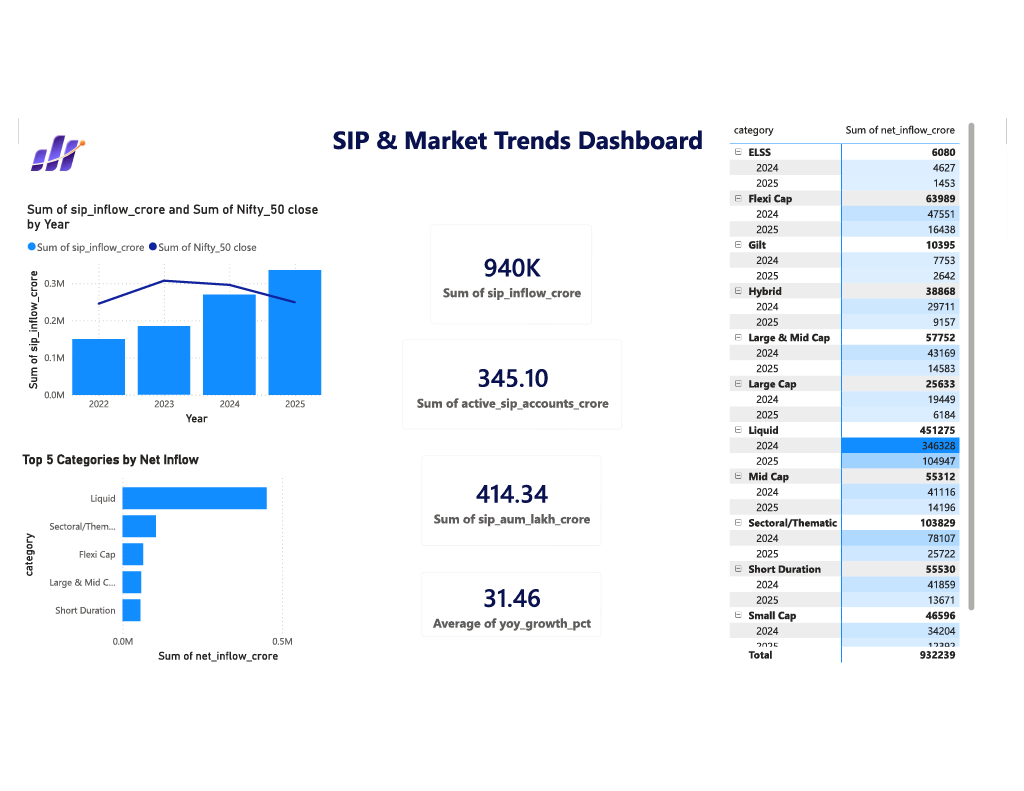

The page's visual inventory and layout, read from the dashboard file:
{"tool":"powerbi","page":{"name":" SIP & Market Trends","canvas":[1280,720],"ordinal":3},"visuals":[{"type":"textbox","box":[401.8,0,515,59.7],"z":0},{"type":"pivotTable","fields":{"Rows":["05_category_inflows_clean.category","05_category_inflows_clean.month.Variation.Date Hierarchy.Year","05_category_inflows_clean.month.Variation.Date Hierarchy.Year"],"Values":["Sum(05_category_inflows_clean.net_inflow_crore)"]},"box":[916.8,0,327.2,710.3],"z":1000},{"type":"clusteredBarChart","title":"Top 5 Categories by Net Inflow","fields":{"Category":["05_category_inflows_clean.category"],"Y":["Sum(05_category_inflows_clean.net_inflow_crore)"]},"box":[0,431.7,401.8,278.6],"z":2000},{"type":"cardVisual","fields":{"Data":["Sum(04_monthly_sip_inflows_clean.sip_inflow_crore)"]},"box":[517.5,120.7,242.6,163],"z":3000},{"type":"cardVisual","fields":{"Data":["Sum(04_monthly_sip_inflows_clean.active_sip_accounts_crore)"]},"box":[480.2,269.9,318.5,150.5],"z":4000},{"type":"cardVisual","fields":{"Data":["Sum(04_monthly_sip_inflows_clean.sip_aum_lakh_crore)"]},"box":[505,420.5,267.5,150.5],"z":5000},{"type":"cardVisual","fields":{"Data":["Avg(04_monthly_sip_inflows_clean.yoy_growth_pct)"]},"box":[505,571,267.5,118.2],"z":6000},{"type":"lineClusteredColumnComboChart","fields":{"Category":["04_monthly_sip_inflows_clean.month.Variation.Date Hierarchy.Year","04_monthly_sip_inflows_clean.month.Variation.Date Hierarchy.Quarter","04_monthly_sip_inflows_clean.month.Variation.Date Hierarchy.Month","04_monthly_sip_inflows_clean.month.Variation.Date Hierarchy.Day"],"Y":["Sum(04_monthly_sip_inflows_clean.sip_inflow_crore)"],"Y2":["Sum(benchmark_monthly.Nifty_50 close)"]},"box":[6.2,108.2,390.6,293.6],"z":7000},{"type":"image","box":[0,0,100.8,93.3],"z":7001}]}

Visuals, with their boxes on the page's 1280x720 design canvas (x1, y1, x2, y2). These are canvas units, not pixel positions in the 1024x791 screenshot, which may show the page scaled, cropped or inside an application window:
textbox: <box>402,0,917,60</box>
pivotTable - 05_category_inflows_clean.category x 05_category_inflows_clean.month.Variation.Date Hierarchy.Year: <box>917,0,1244,710</box>
"Top 5 Categories by Net Inflow" clusteredBarChart: <box>0,432,402,710</box>
cardVisual - Sum(04_monthly_sip_inflows_clean.sip_inflow_crore): <box>518,121,760,284</box>
cardVisual - Sum(04_monthly_sip_inflows_clean.active_sip_accounts_crore): <box>480,270,799,420</box>
cardVisual - Sum(04_monthly_sip_inflows_clean.sip_aum_lakh_crore): <box>505,420,772,571</box>
cardVisual - Avg(04_monthly_sip_inflows_clean.yoy_growth_pct): <box>505,571,772,689</box>
lineClusteredColumnComboChart - 04_monthly_sip_inflows_clean.month.Variation.Date Hierarchy.Year x 04_monthly_sip_inflows_clean.month.Variation.Date Hierarchy.Quarter: <box>6,108,397,402</box>
image: <box>0,0,101,93</box>
